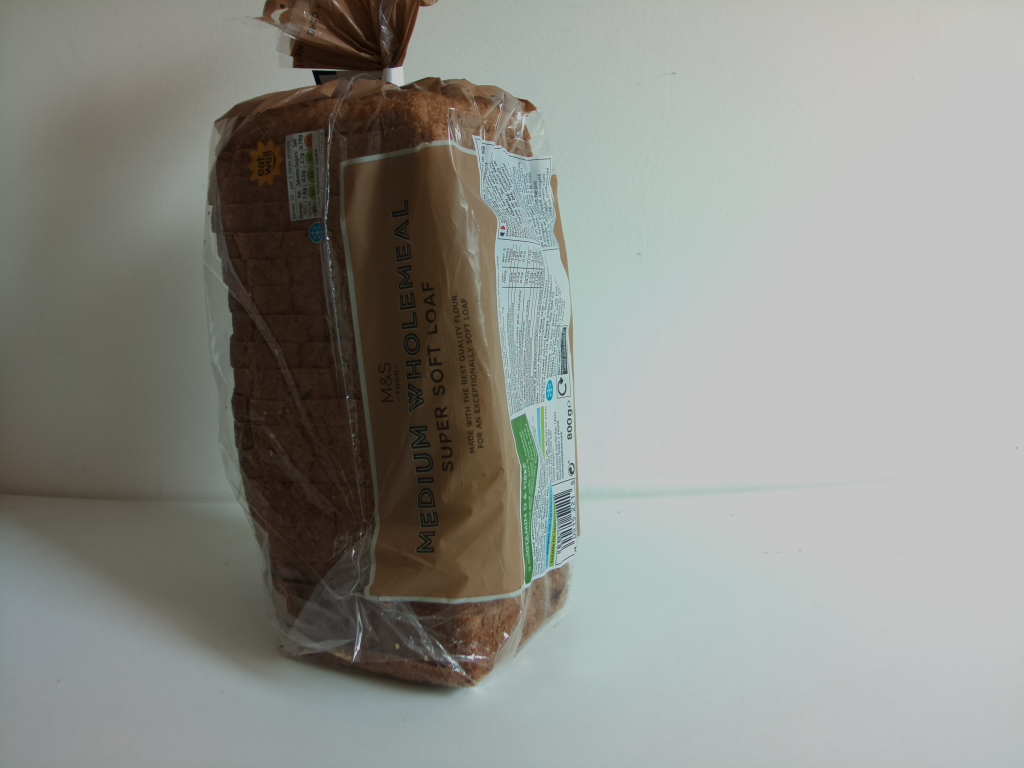bread: (201, 1, 584, 698)
